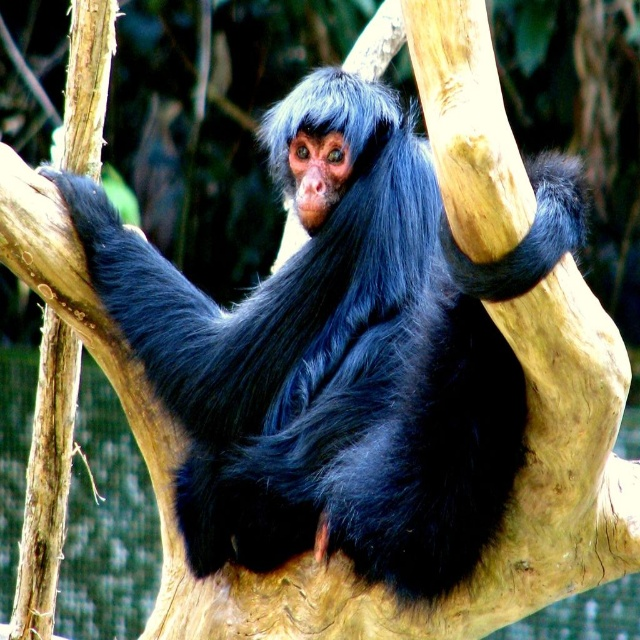Monkey: (23, 62, 636, 634)
